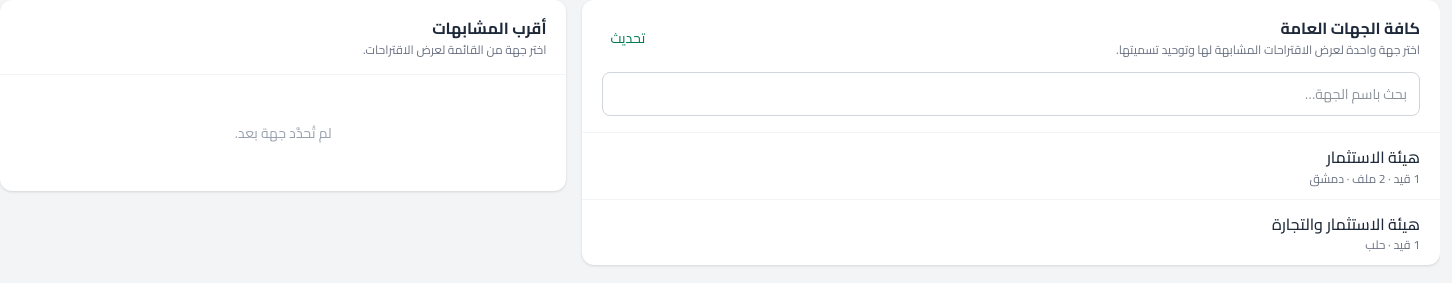
UnifyNamesTab › يعرض قائمة الجهات ويحمّل الاقتراحات بالاسم الجديد لزر التوحيد عند اختيار جهة
Check: the text "هيئة الاستثمار" is shown, box [1326,142,1420,172]
Click the button "هيئة الاستثمار 1 قيد · 2 ملف · دمشق".
click(1373, 157)  # box [582,133,1440,200]
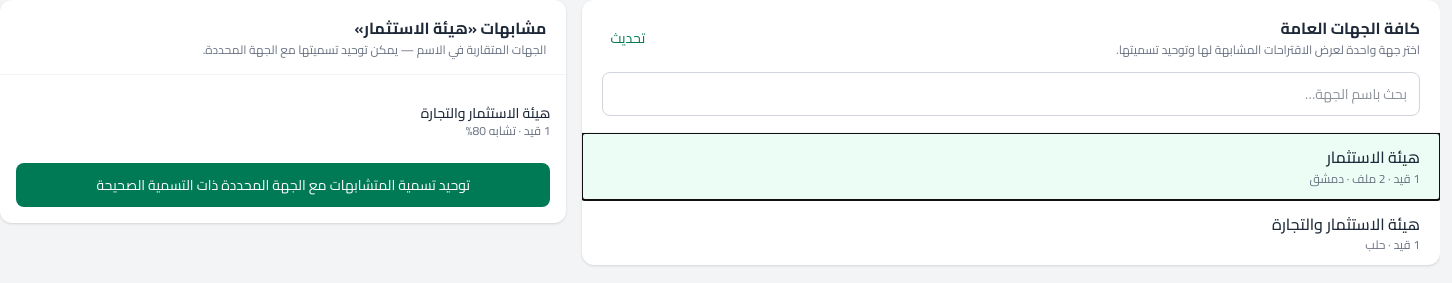
Check: the button "توحيد تسمية المتشابهات مع الجهة المحددة ذات التسمية الصحيحة" is shown, box [16,163,550,207]
